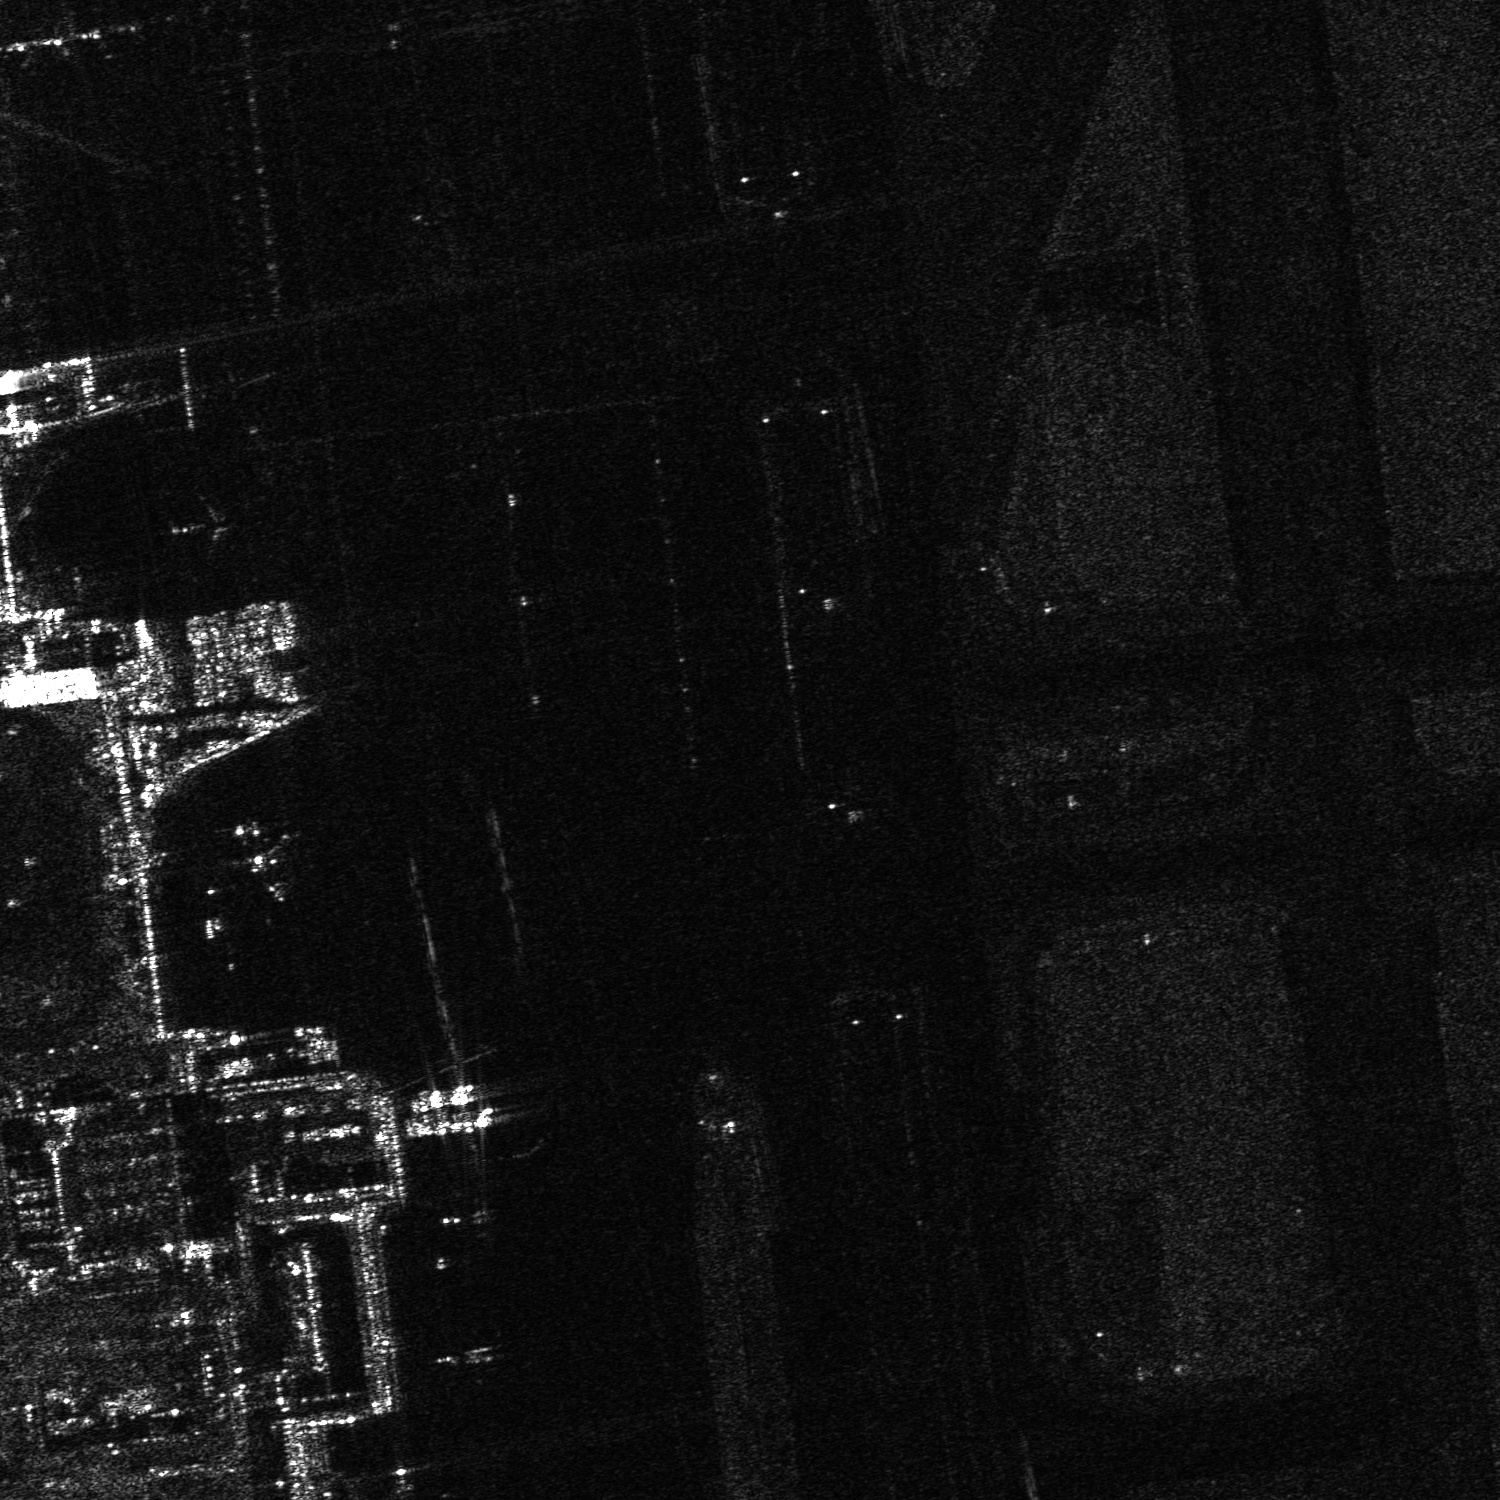Boeing787: (207, 809, 299, 904)
other: (165, 490, 247, 555)
